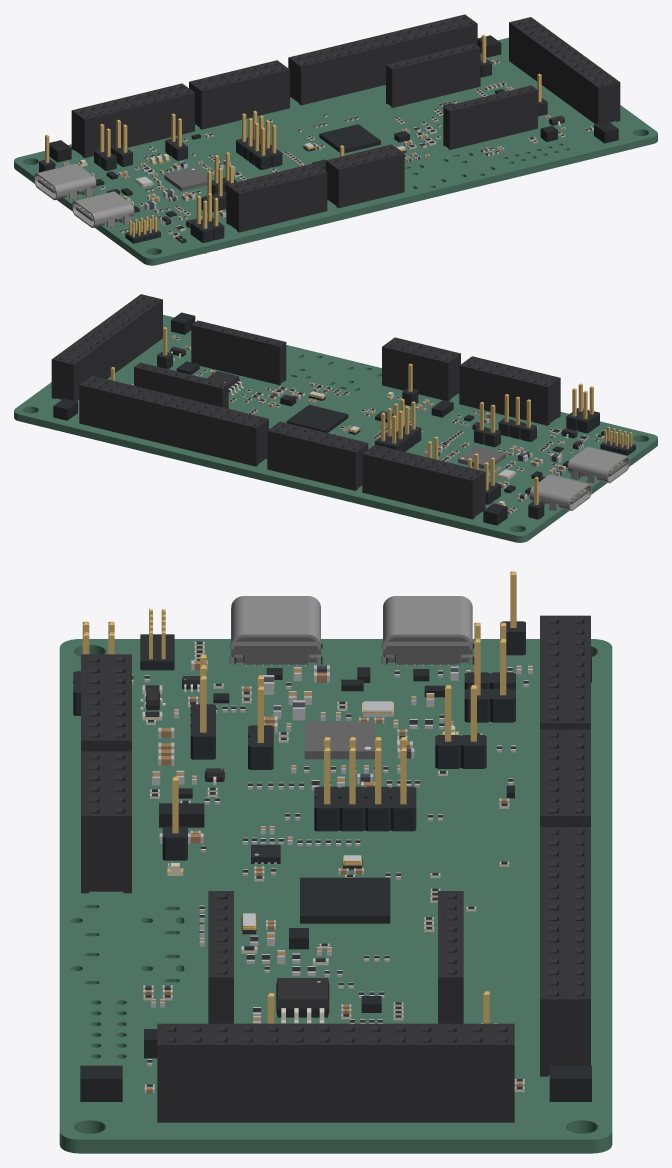
File: active.digital-twin.glb
The picture shows the model from 3 angles, top to bottom: view 1: azimuth 30°, elevation 25°; view 2: azimuth 150°, elevation 25°; view 3: azimuth 270°, elevation 25°; orthographic projection. The views are drawn at different scales.
Parts seen in each view (by area): view 1: =>[0:1:1:112], ref:J9, ref:J8, ref:J2, ref:J3, ref:J1, ref:J6, ref:J5, ref:J4, ref:J10, ref:J11, ref:J13 (+14 smaller); view 2: =>[0:1:1:112], ref:J9, ref:J2, ref:J8, ref:J1, ref:J3, ref:J6, ref:J4, ref:J5, ref:J11, ref:J10, ref:J13 (+16 smaller); view 3: =>[0:1:1:112], ref:J8, ref:J9, ref:J4, ref:J10, ref:J11, ref:J2, ref:J1, ref:J3, ref:U1, ref:J5, ref:J6 (+18 smaller).
Boxes of the visible parts, bbox=[...] form: =>[0:1:1:112]: bbox=[14, 37, 657, 265]; ref:J9: bbox=[288, 14, 477, 105]; ref:J8: bbox=[509, 17, 620, 123]; ref:J2: bbox=[71, 83, 194, 158]; ref:J3: bbox=[226, 163, 327, 232]; ref:J1: bbox=[189, 60, 289, 129]; ref:J6: bbox=[443, 85, 537, 149]; ref:J5: bbox=[386, 43, 480, 107]; ref:J4: bbox=[325, 144, 404, 208]; ref:J10: bbox=[34, 163, 96, 200]; ref:J11: bbox=[72, 191, 134, 227]; ref:J13: bbox=[190, 193, 224, 253]; =>[0:1:1:112]: bbox=[14, 315, 657, 542]; ref:J9: bbox=[79, 375, 268, 466]; ref:J2: bbox=[362, 444, 485, 519]; ref:J8: bbox=[51, 294, 162, 401]; ref:J1: bbox=[267, 421, 368, 490]; ref:J3: bbox=[459, 356, 560, 425]; ref:J6: bbox=[191, 320, 286, 385]; ref:J4: bbox=[382, 337, 460, 401]; ref:J5: bbox=[134, 362, 228, 408]; ref:J11: bbox=[567, 446, 629, 483]; ref:J10: bbox=[529, 474, 591, 510]; ref:J13: bbox=[566, 383, 599, 433]; =>[0:1:1:112]: bbox=[59, 639, 612, 1153]; ref:J8: bbox=[157, 1023, 514, 1122]; ref:J9: bbox=[540, 827, 590, 1076]; ref:J4: bbox=[81, 751, 131, 893]; ref:J10: bbox=[383, 596, 472, 665]; ref:J11: bbox=[231, 596, 320, 665]; ref:J2: bbox=[540, 615, 590, 729]; ref:J1: bbox=[540, 729, 590, 826]; ref:J3: bbox=[81, 654, 131, 751]; ref:U1: bbox=[300, 877, 390, 923]; ref:J5: bbox=[438, 891, 463, 1023]; ref:J6: bbox=[208, 891, 233, 1023].
Bounding box in the file's own units: 0.1206 × 0.0116 × 0.055.
